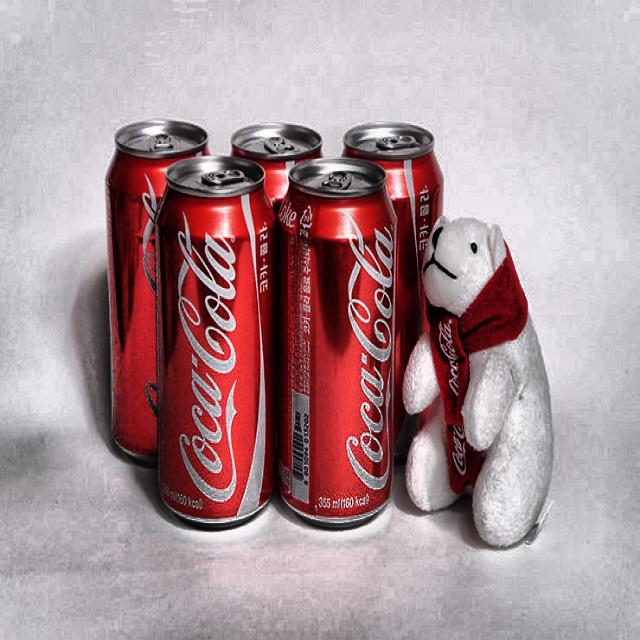cocacola: (153, 158, 270, 522), (278, 156, 395, 514)
